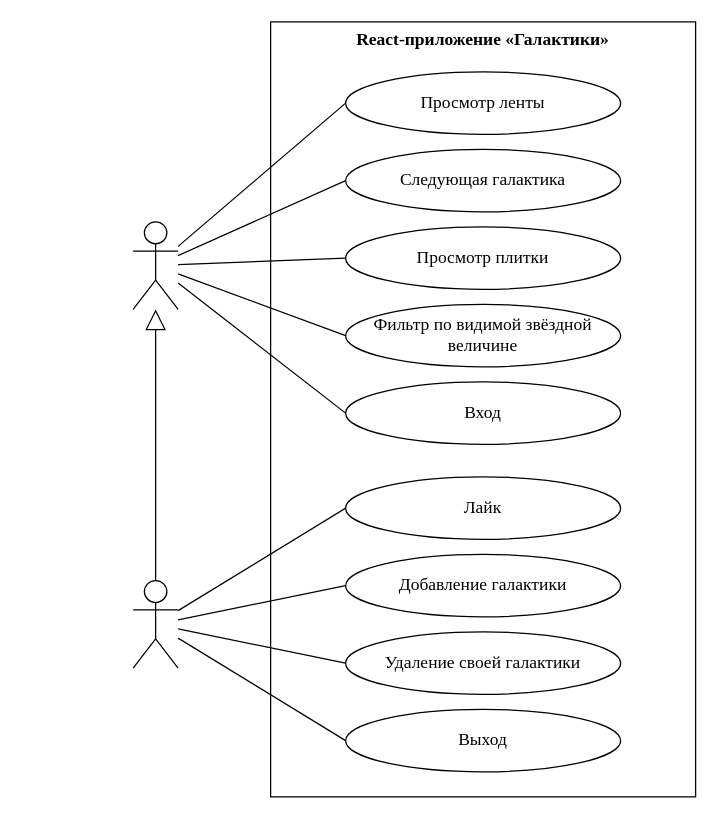
This 718x819 diagram has some shape labels left out. The centre of each missing label's shape, as x and y in pixels:
"Гость" belongs at point 155,265.
"Пользователь" belongs at point 155,623.
